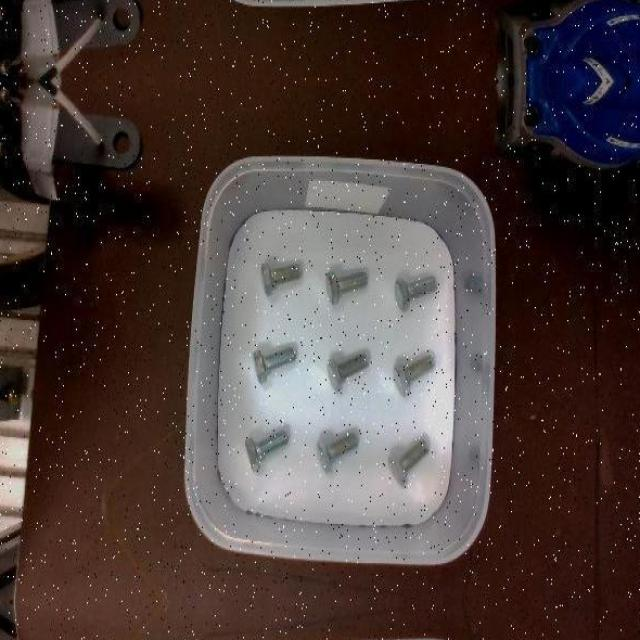screw: (388, 438, 428, 486), (246, 428, 289, 472), (392, 354, 435, 396), (317, 432, 358, 472), (328, 352, 368, 391), (254, 347, 296, 384), (395, 277, 436, 311), (326, 270, 366, 303), (262, 262, 300, 296)
